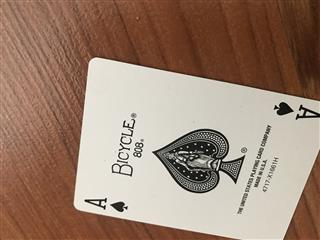AceOfSpades: (72, 56, 320, 240)
